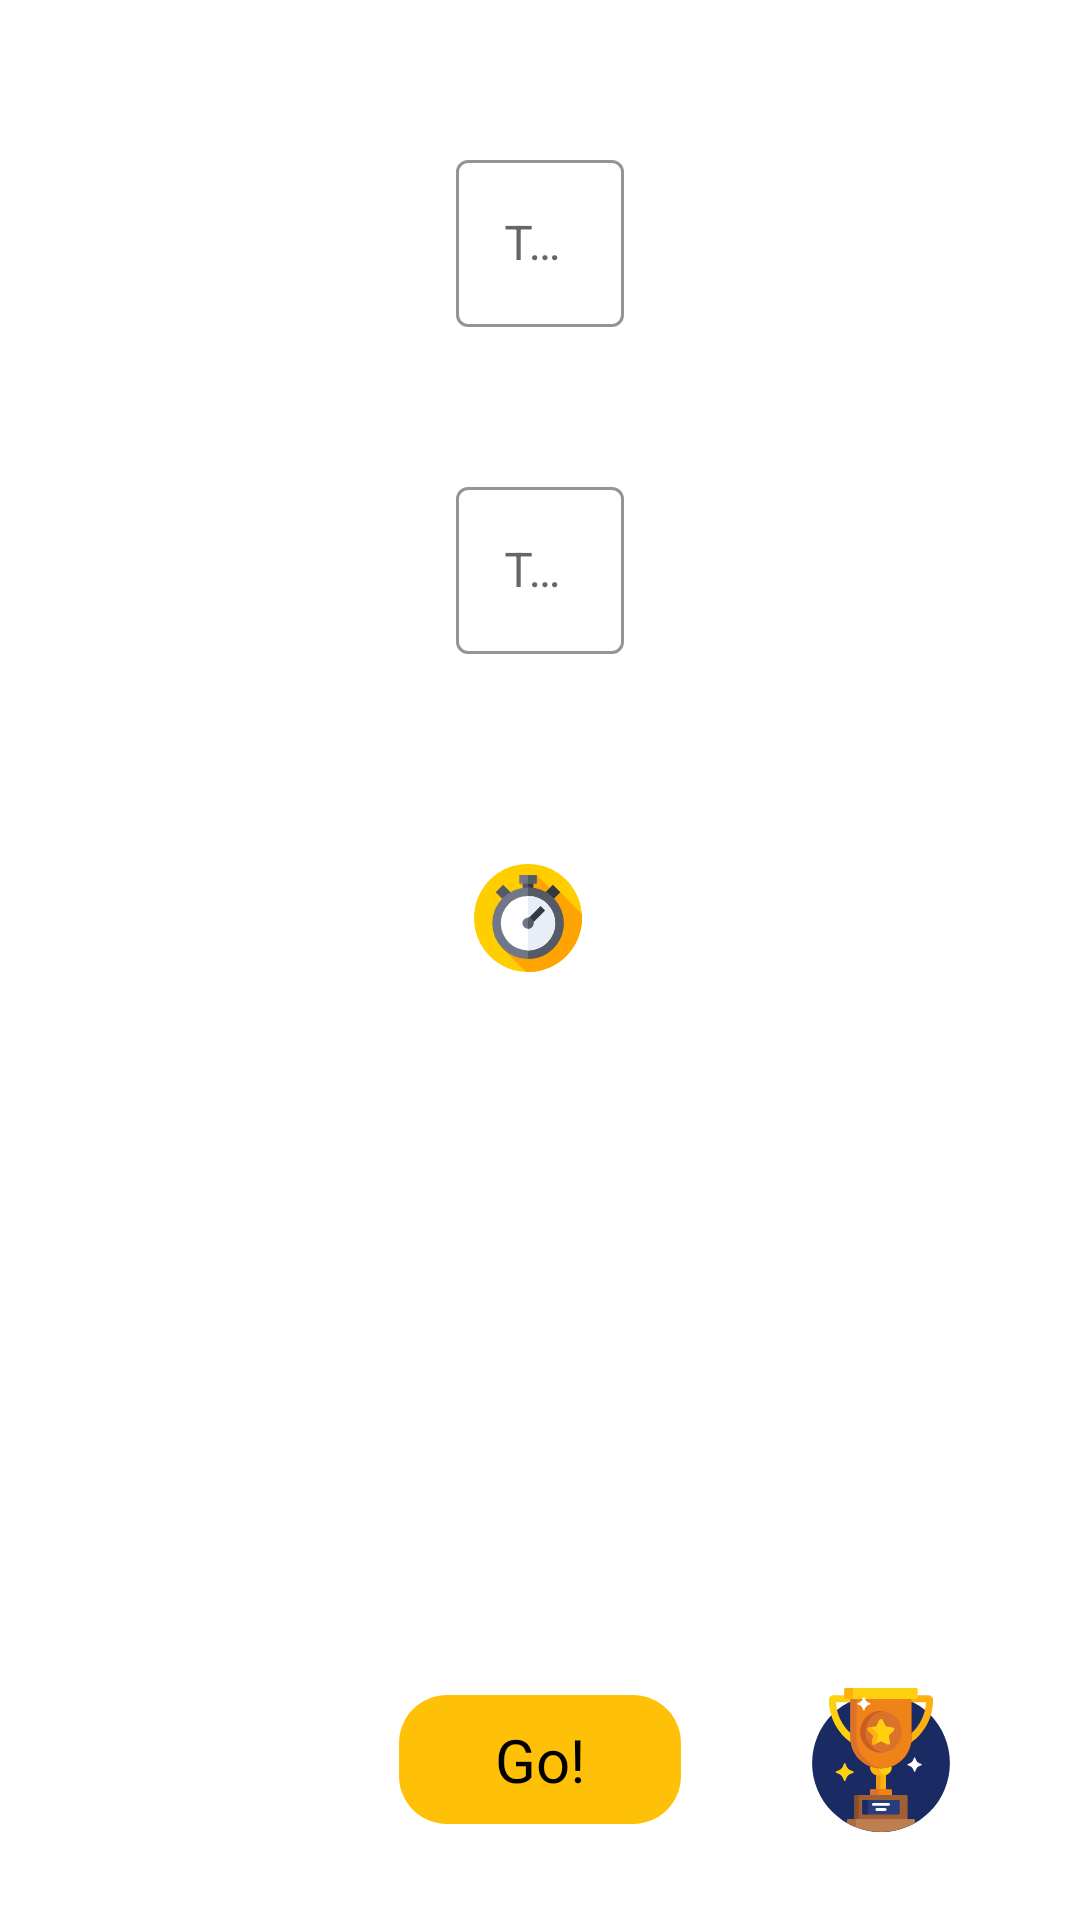

Where to tap for icons on this 1080*1920 app screen, as (x,y):
trophy: (881,1760)
